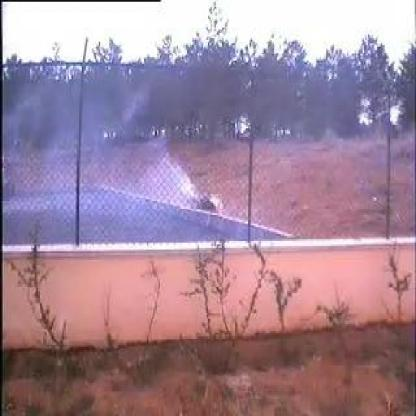-: (50, 82, 206, 242)
